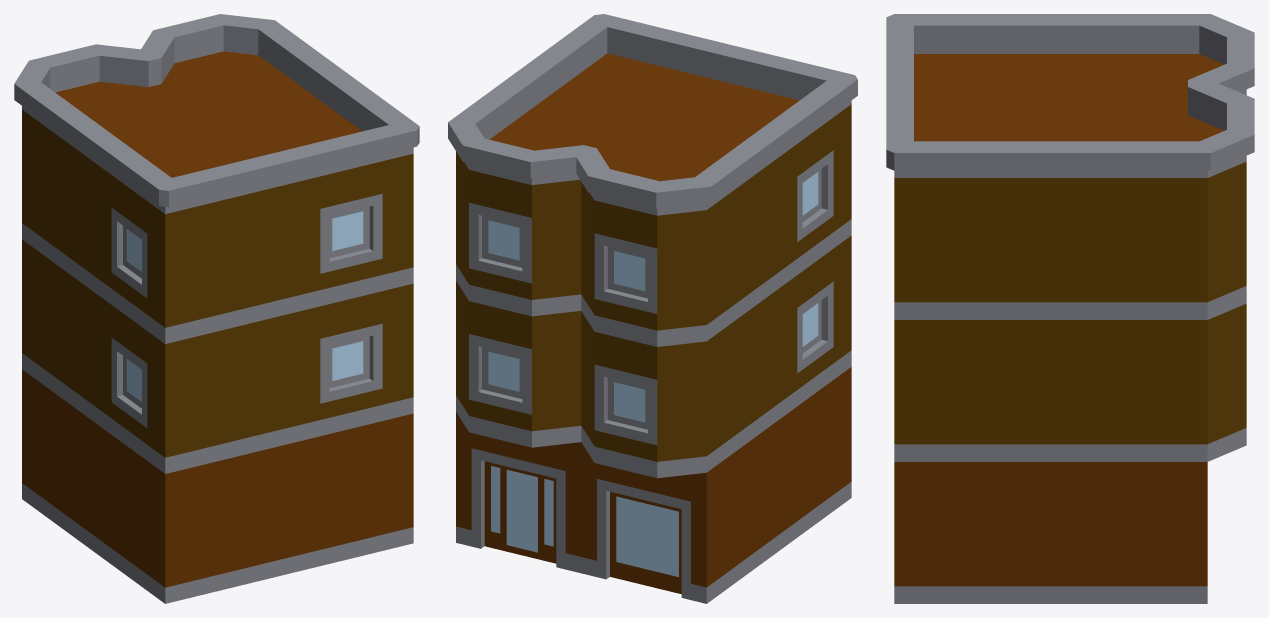
Rendered from Small-Building.glb.
The picture shows the model from 3 angles, left to right: view 1: azimuth 30°, elevation 25°; view 2: azimuth 150°, elevation 25°; view 3: azimuth 270°, elevation 25°; orthographic projection. The views are drawn at different scales.
Visible parts, largest first — view 1: small_buildingA; view 2: small_buildingA; view 3: small_buildingA.
Boxes of the visible parts, x1=… form: small_buildingA: x1=14, y1=14, x2=419, y2=603; small_buildingA: x1=448, y1=14, x2=857, y2=603; small_buildingA: x1=886, y1=14, x2=1254, y2=603.
Size of the model in its own units: 0.84 by 1.28 by 0.94.
